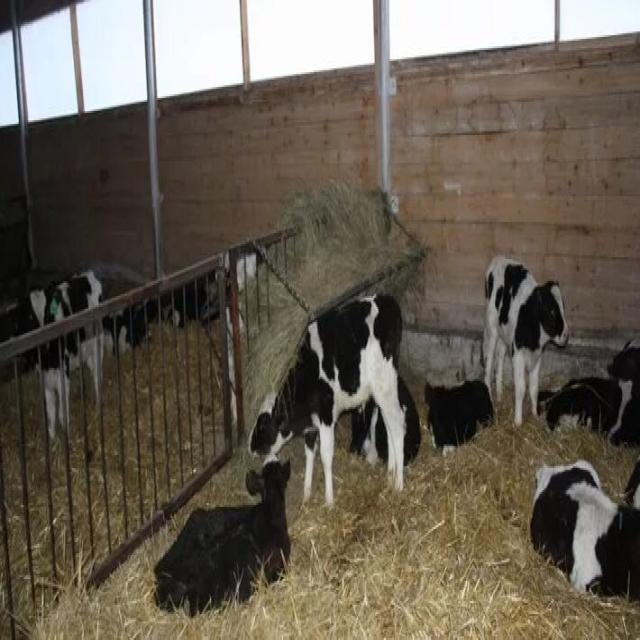cow: (0, 240, 265, 446), (247, 290, 407, 509), (152, 455, 291, 618), (529, 457, 639, 601), (480, 254, 570, 426), (30, 268, 106, 442), (541, 338, 639, 448), (349, 370, 420, 468), (423, 376, 494, 455)
